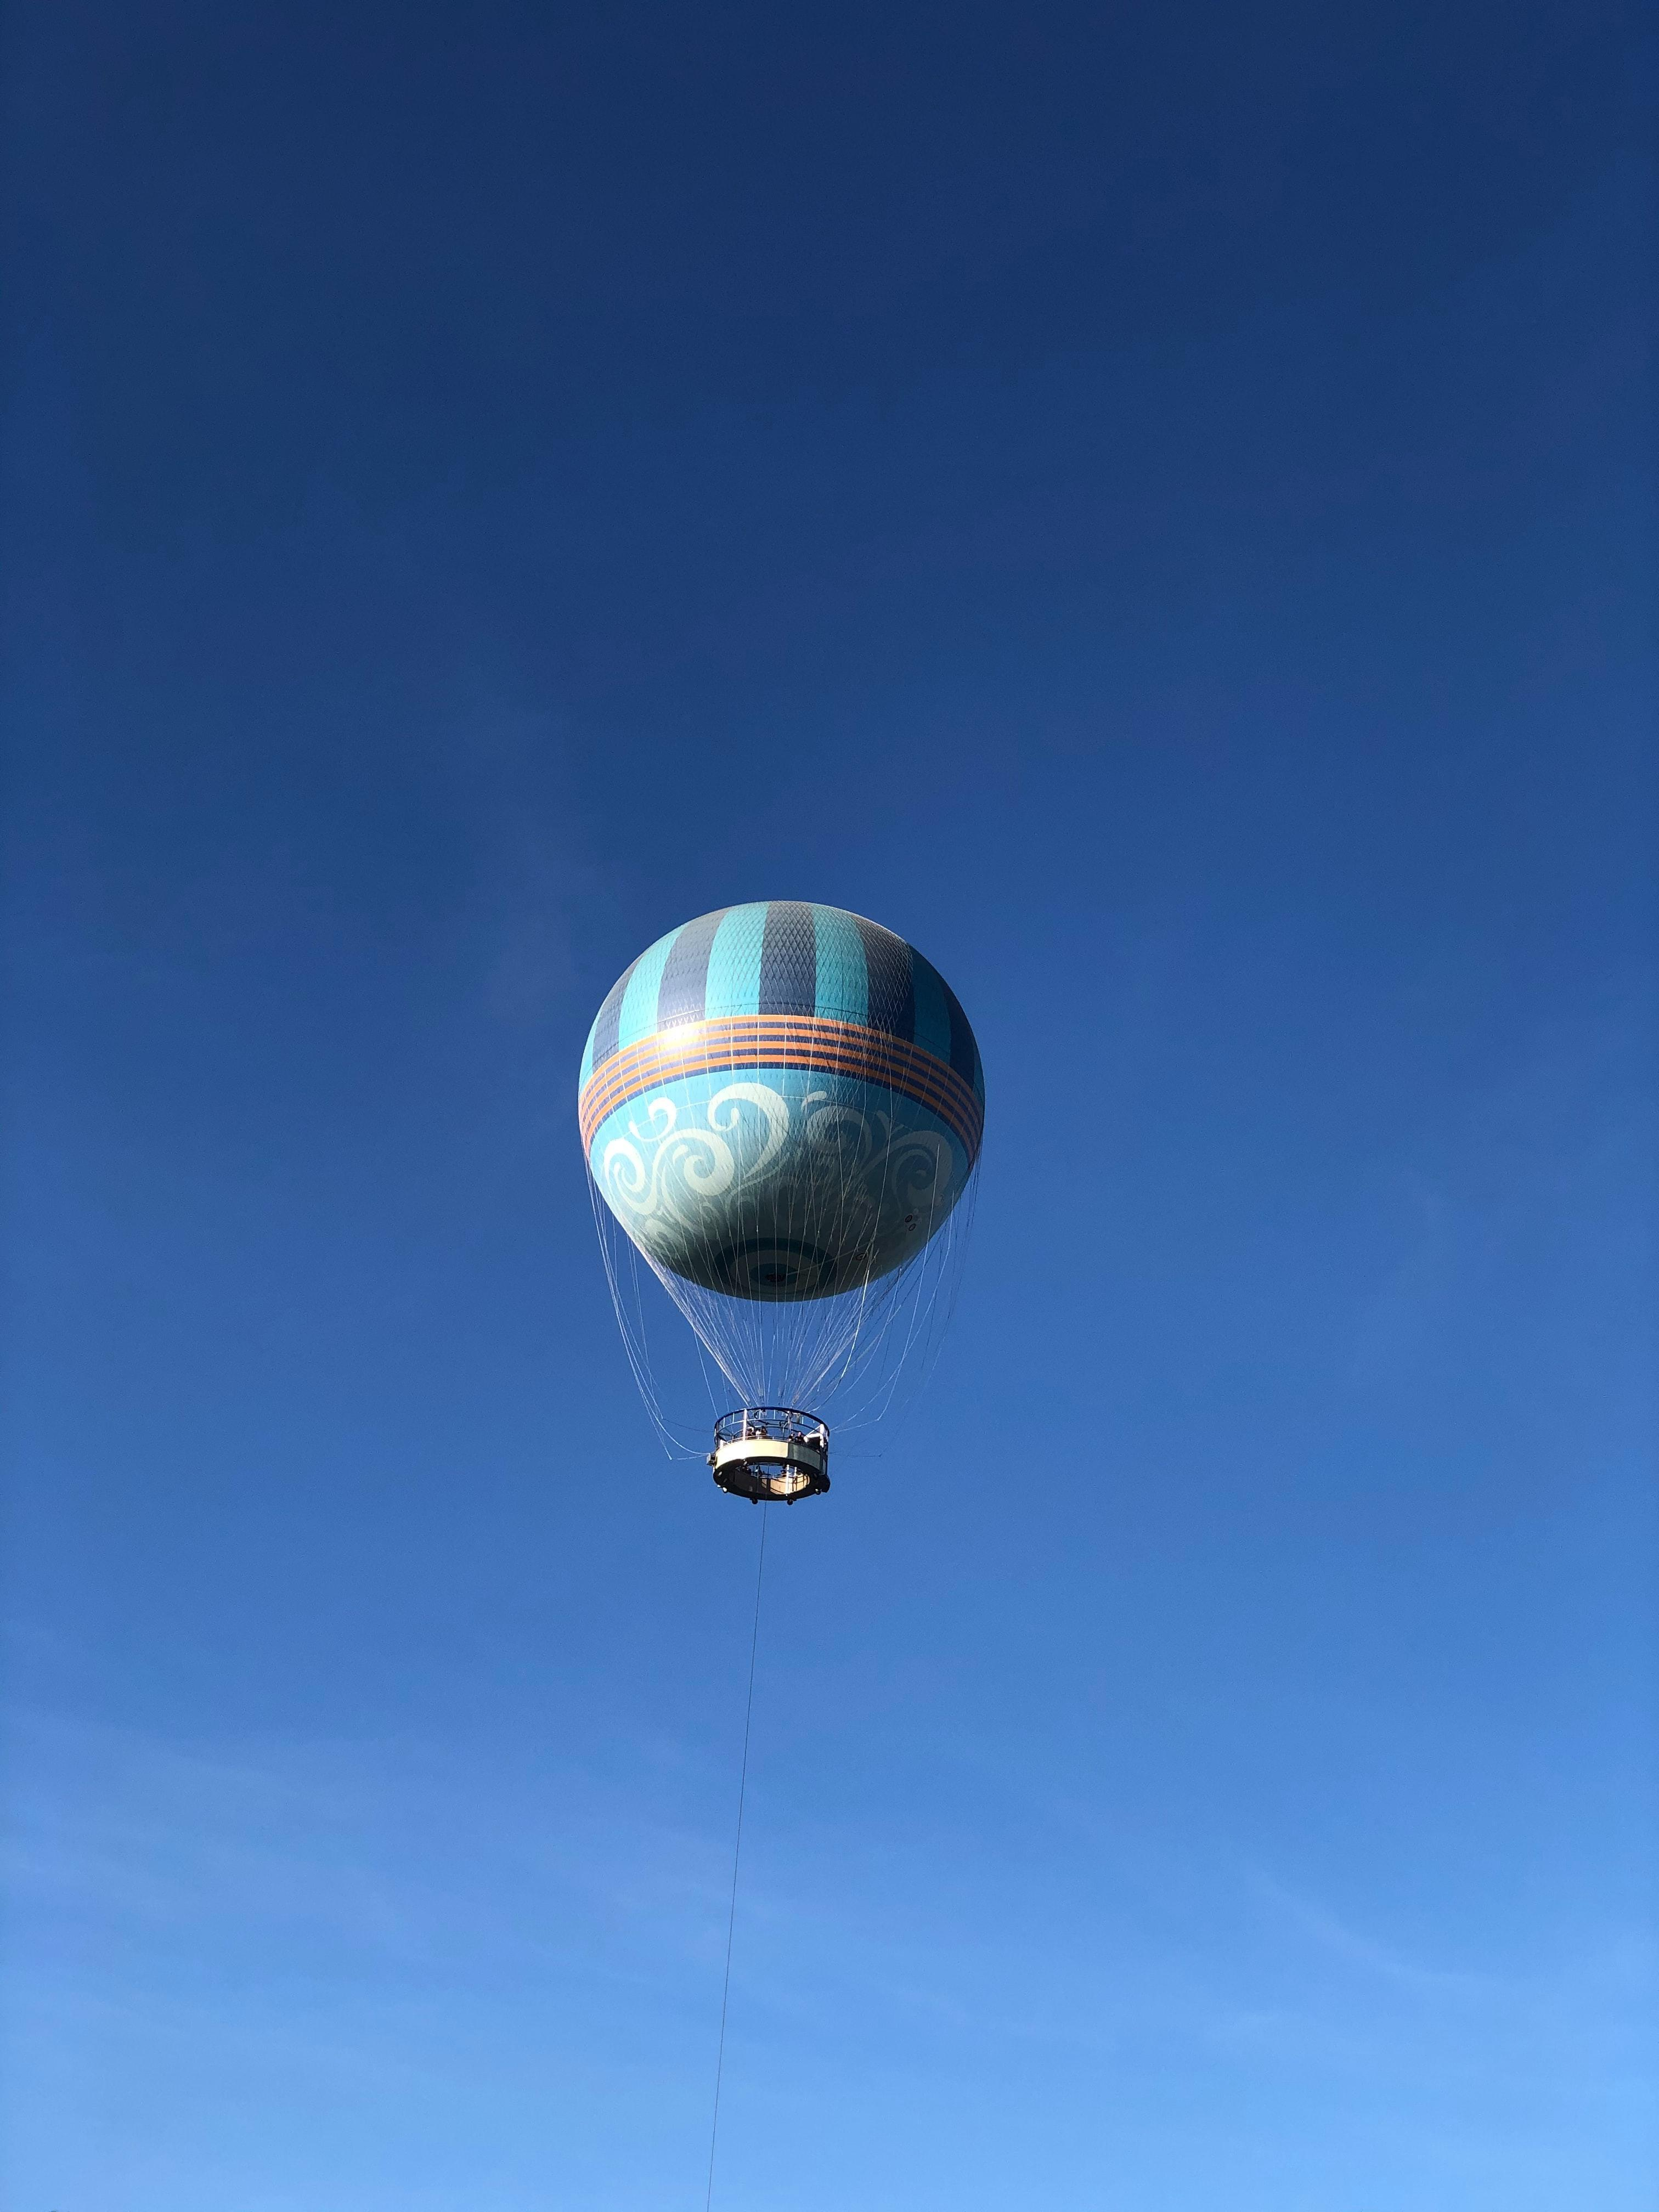hot air ballon: (575, 906, 983, 1505)
